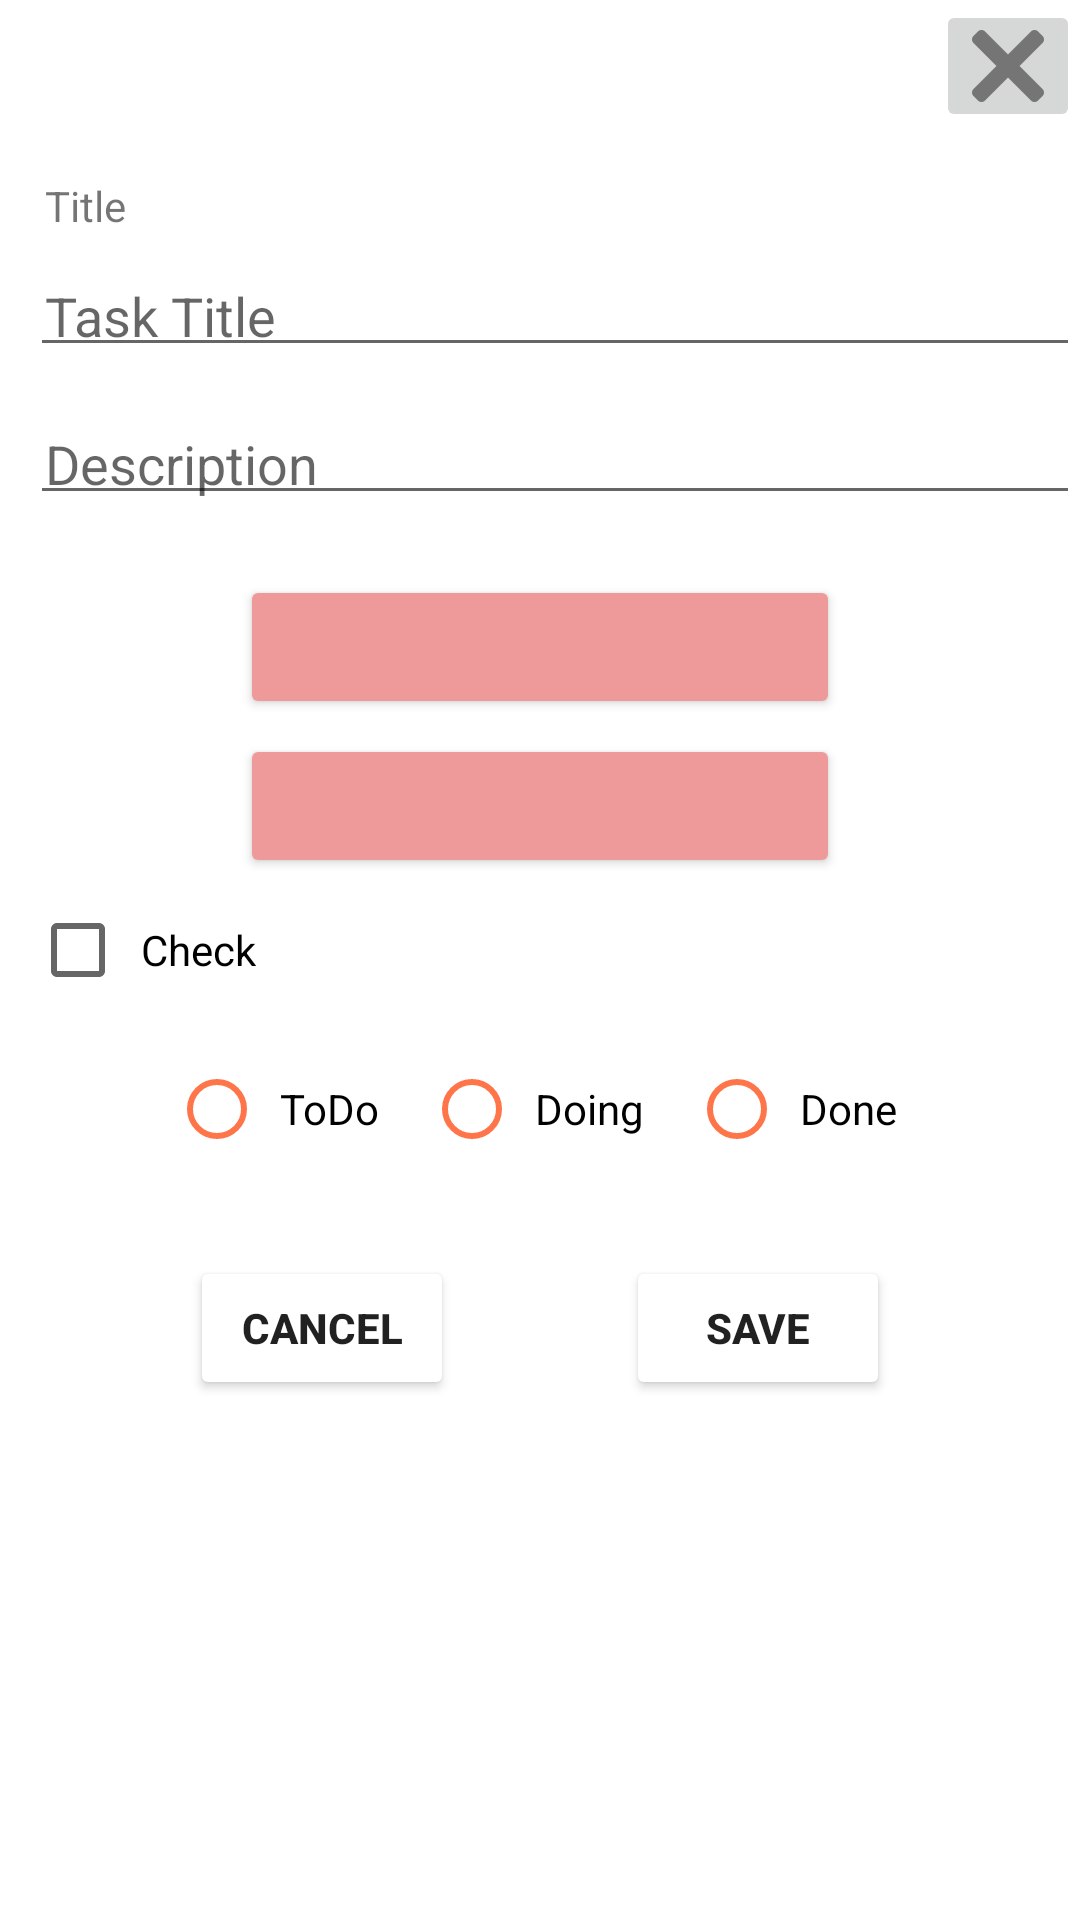

Icons on this 1080 x 1920 Android screen, each with its box as bbox(x1, y1, x2, y2):
cancel item: bbox(948, 18, 1068, 114)
